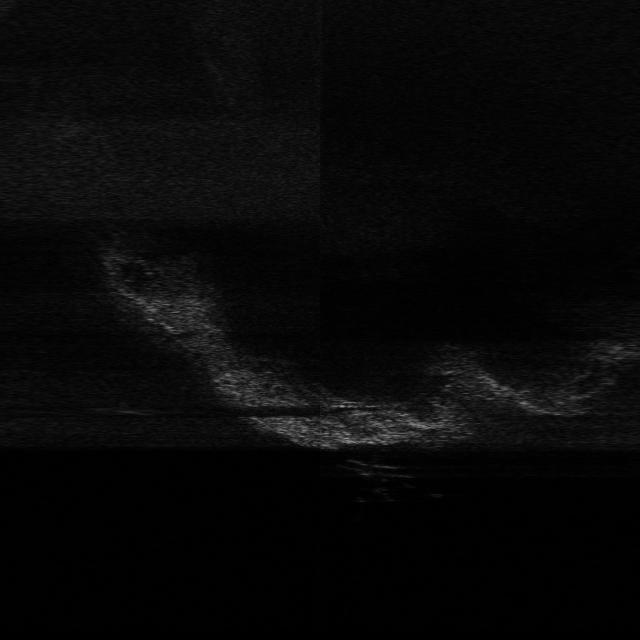plane: (336, 456, 416, 480)
